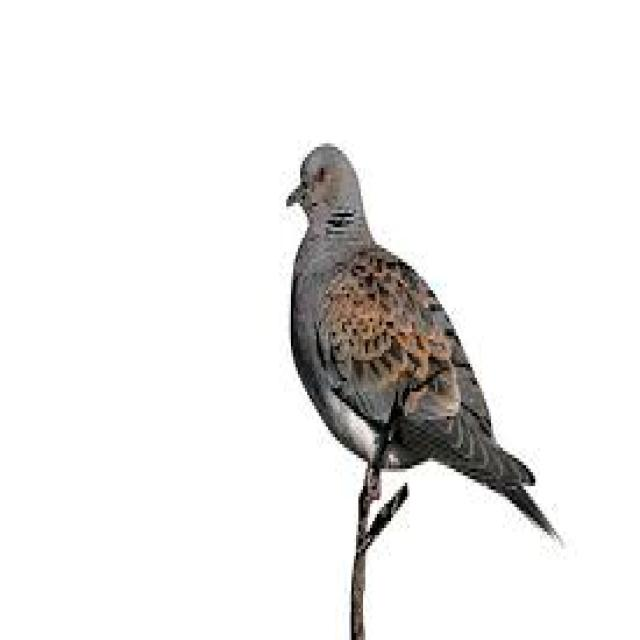pigeon: (276, 120, 553, 567)
